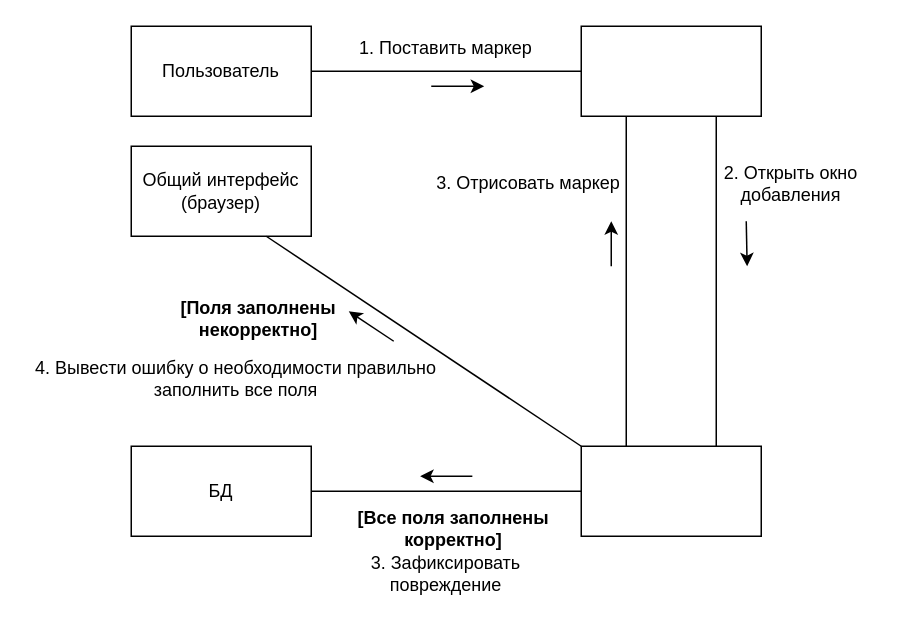
Image size: 906x623. Some labels were removed from this diagram. Each missing label, with the box of its shape:
Модальное окно маркера: (580, 445, 761, 536)
Поле добавления маркеров повреждений: (580, 25, 761, 116)
